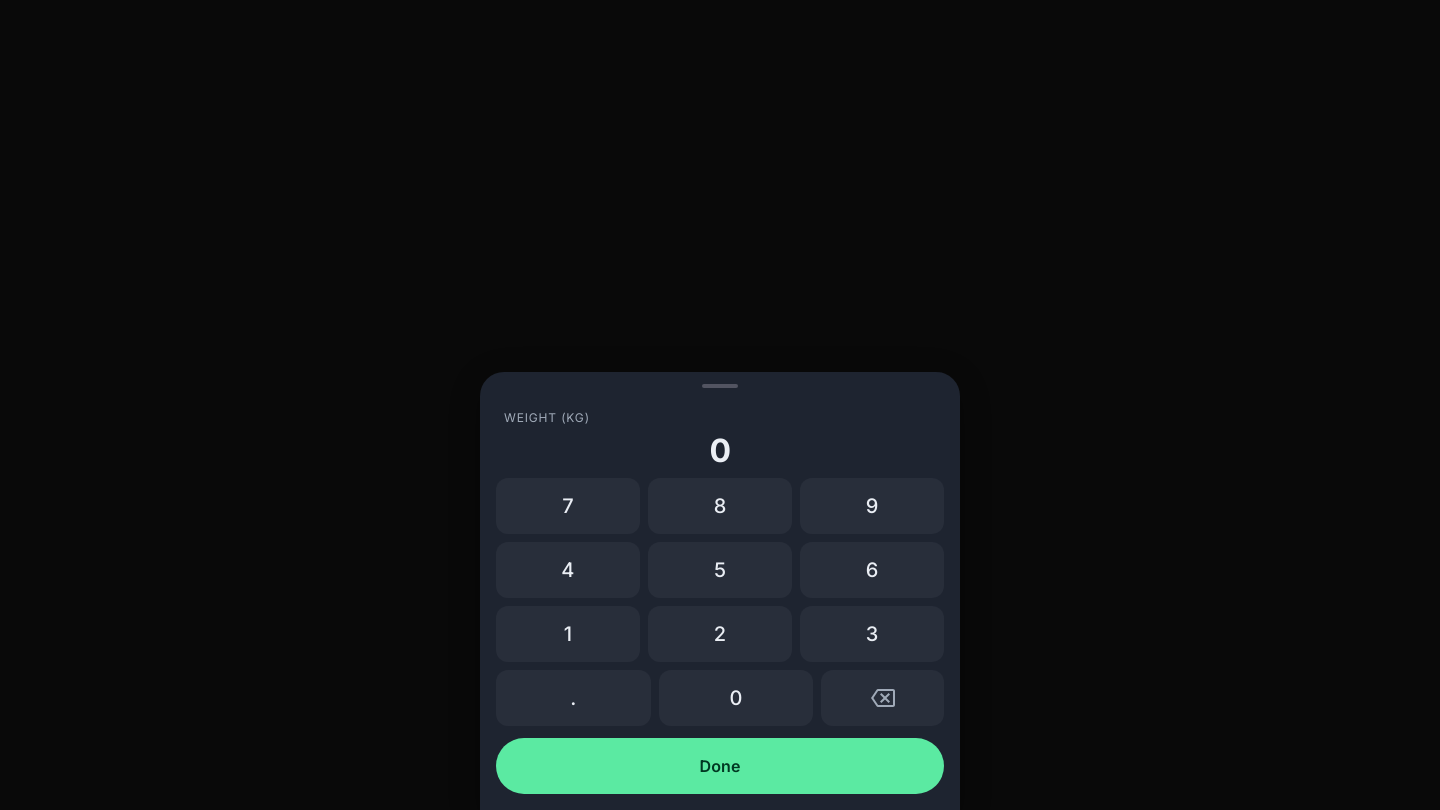
Test: NumpadBottomSheet › handles decimal point when allowDecimal is true
Click the button "7" at (568, 506), box [496, 478, 640, 534]
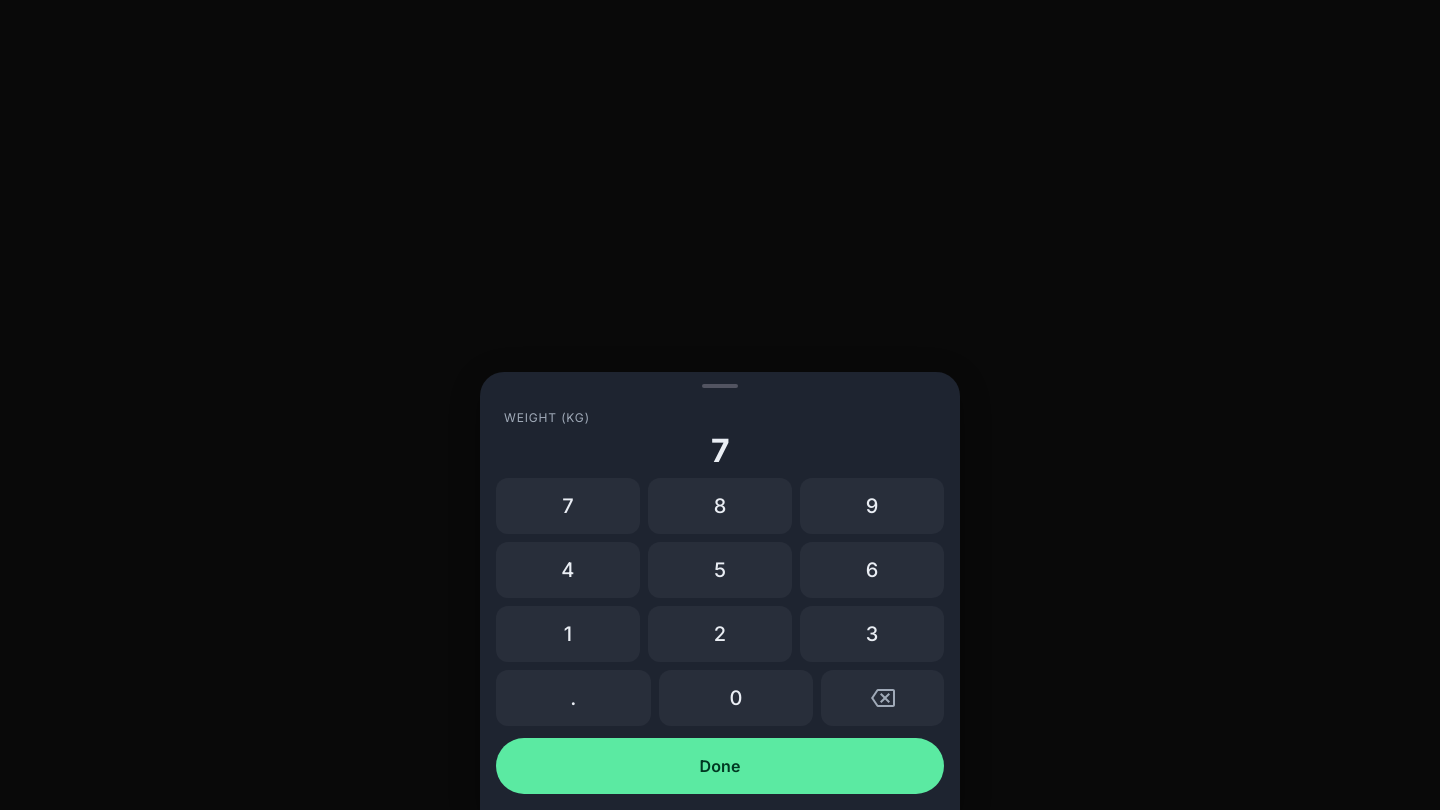
Click the button named "Decimal point" at (573, 698), box [496, 670, 651, 726]
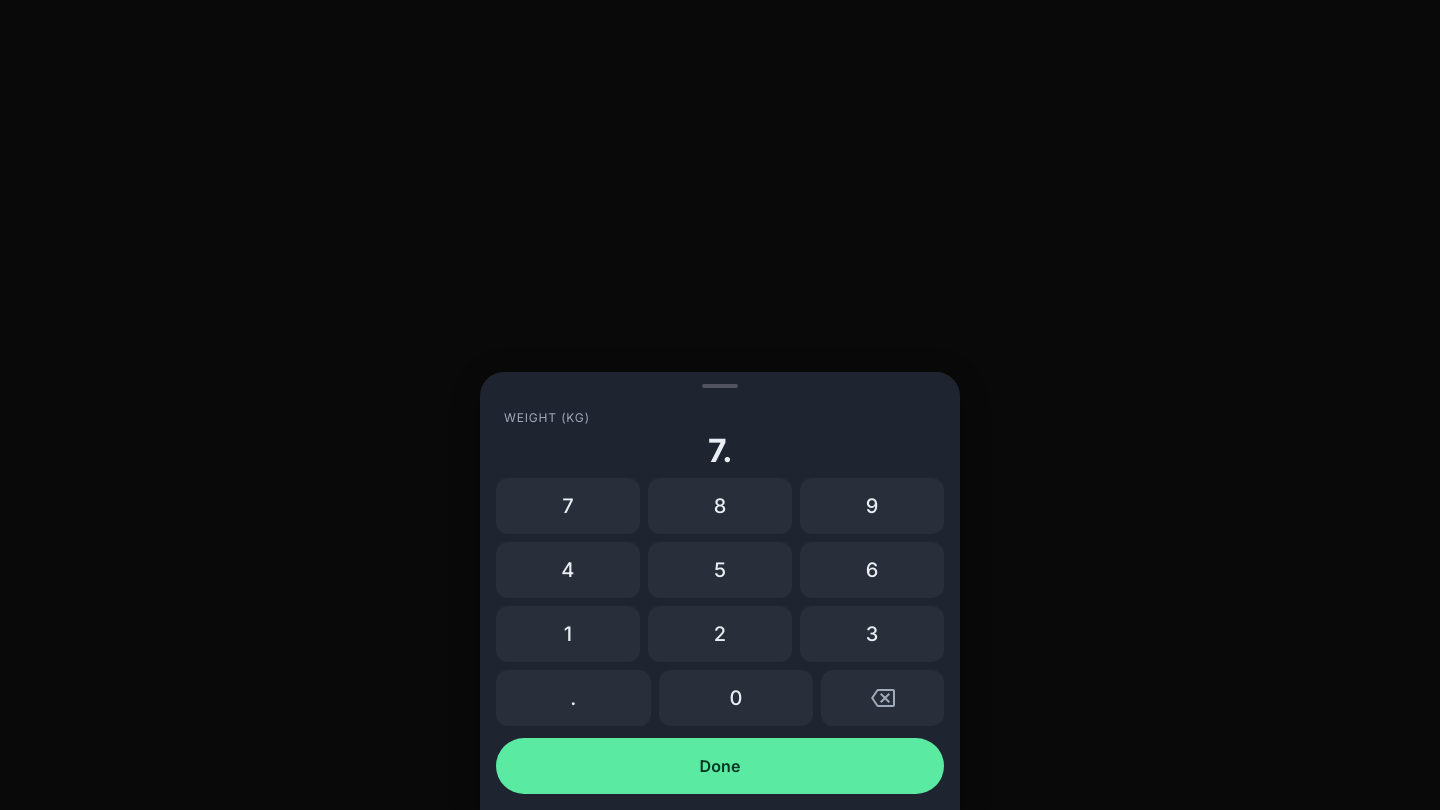
Click the button "5" at (720, 570), box [648, 542, 792, 598]
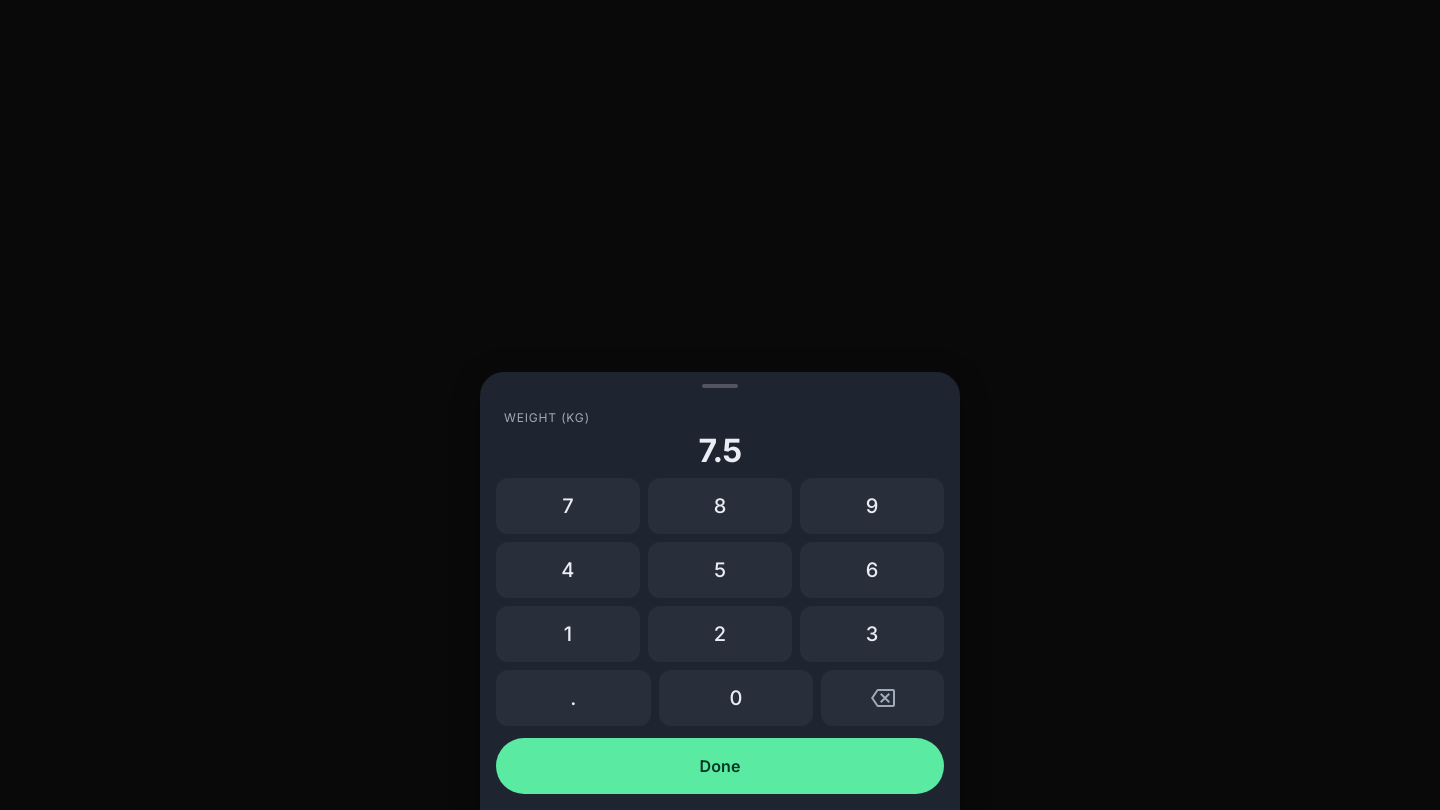
Result: the heading "7.5" is shown at [698, 431, 742, 470]
